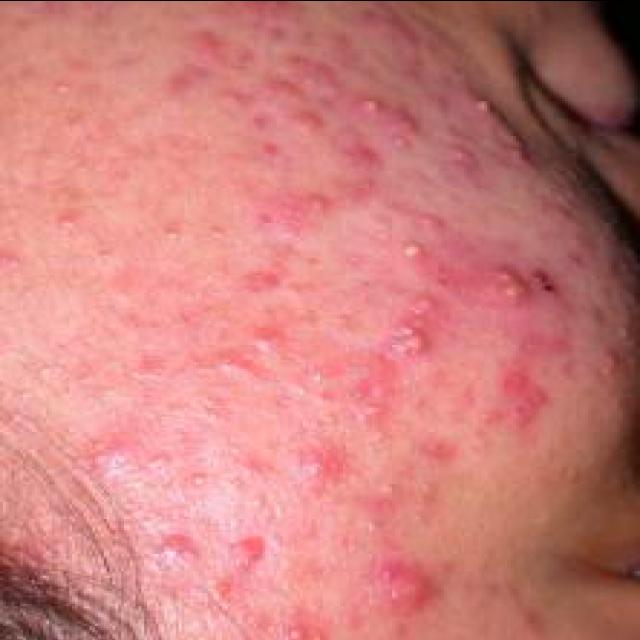Acne: (250, 186, 338, 238), (352, 95, 426, 152), (208, 324, 287, 376), (366, 558, 434, 616), (491, 364, 547, 426), (286, 445, 346, 491), (476, 260, 530, 310), (380, 320, 440, 362), (222, 526, 270, 576), (152, 529, 200, 569), (392, 233, 432, 267), (286, 107, 328, 139), (280, 620, 328, 640)
